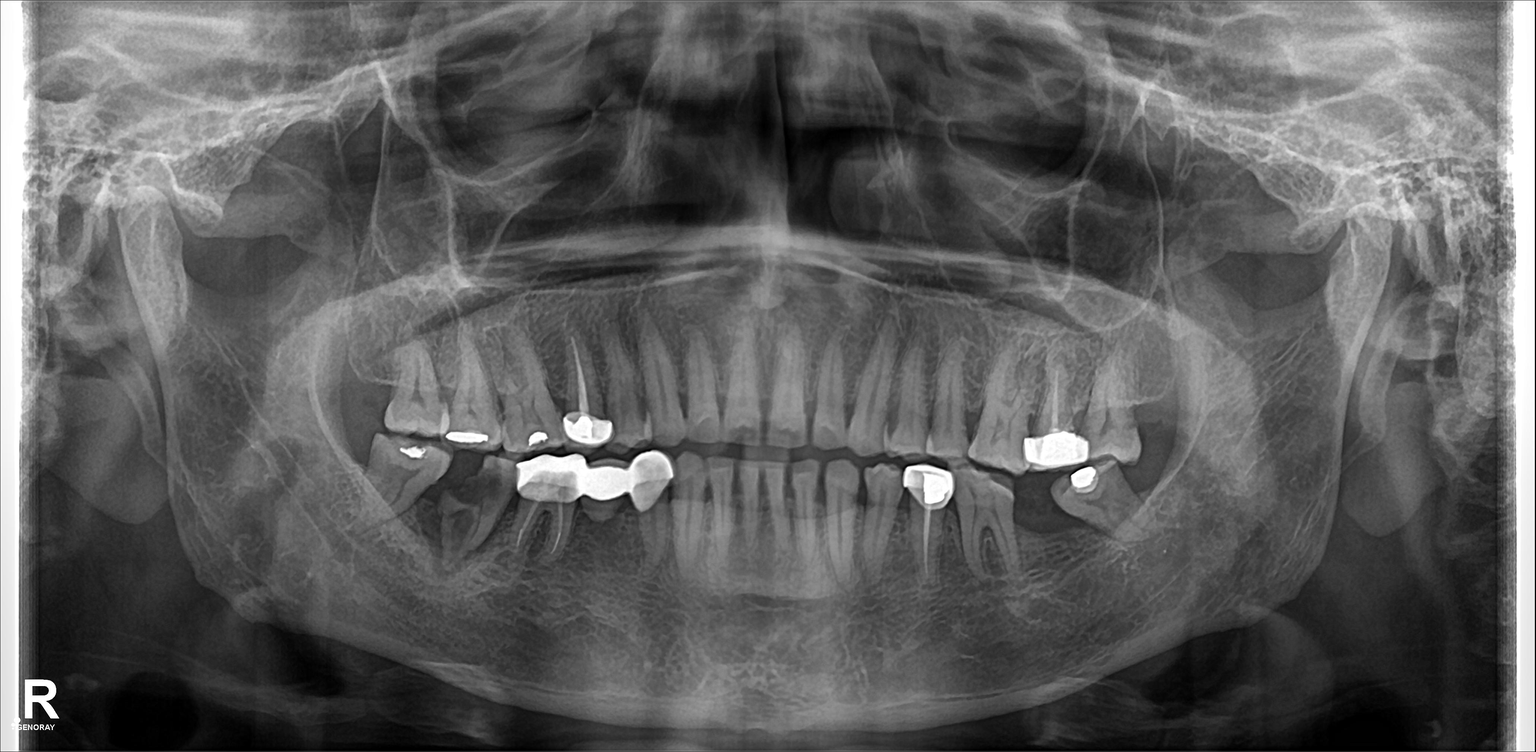Dental Caries: (439, 460, 507, 506)
Endodontically Treated Tooth: (903, 463, 948, 597), (521, 458, 574, 566), (561, 322, 602, 439), (1037, 367, 1082, 469)
Missing Tooth: (1021, 490, 1065, 573), (335, 352, 386, 417), (1132, 369, 1175, 439)
